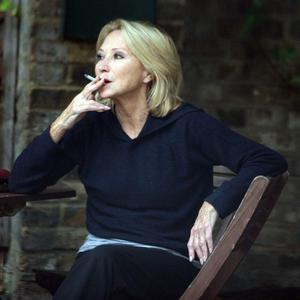cigarette: (83, 73, 102, 87)
